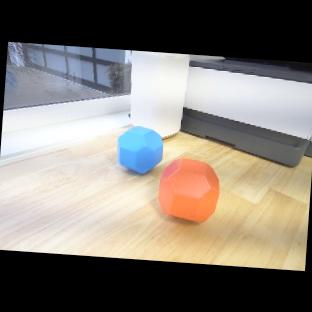V5_BLUE: (115, 125, 166, 174)
V5_RED: (157, 157, 221, 223)
